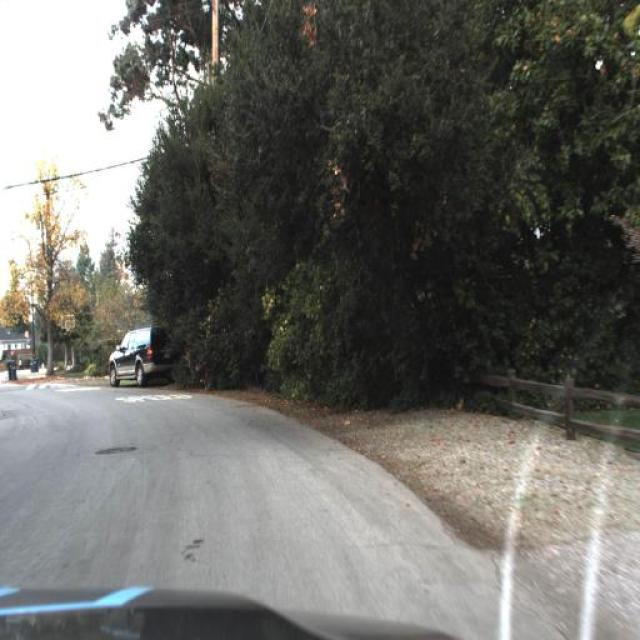car: (101, 322, 177, 396)
